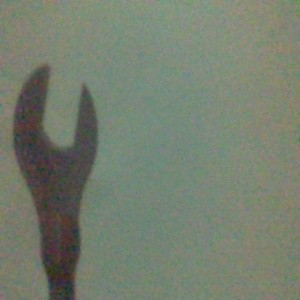spanner: (12, 63, 99, 300)
